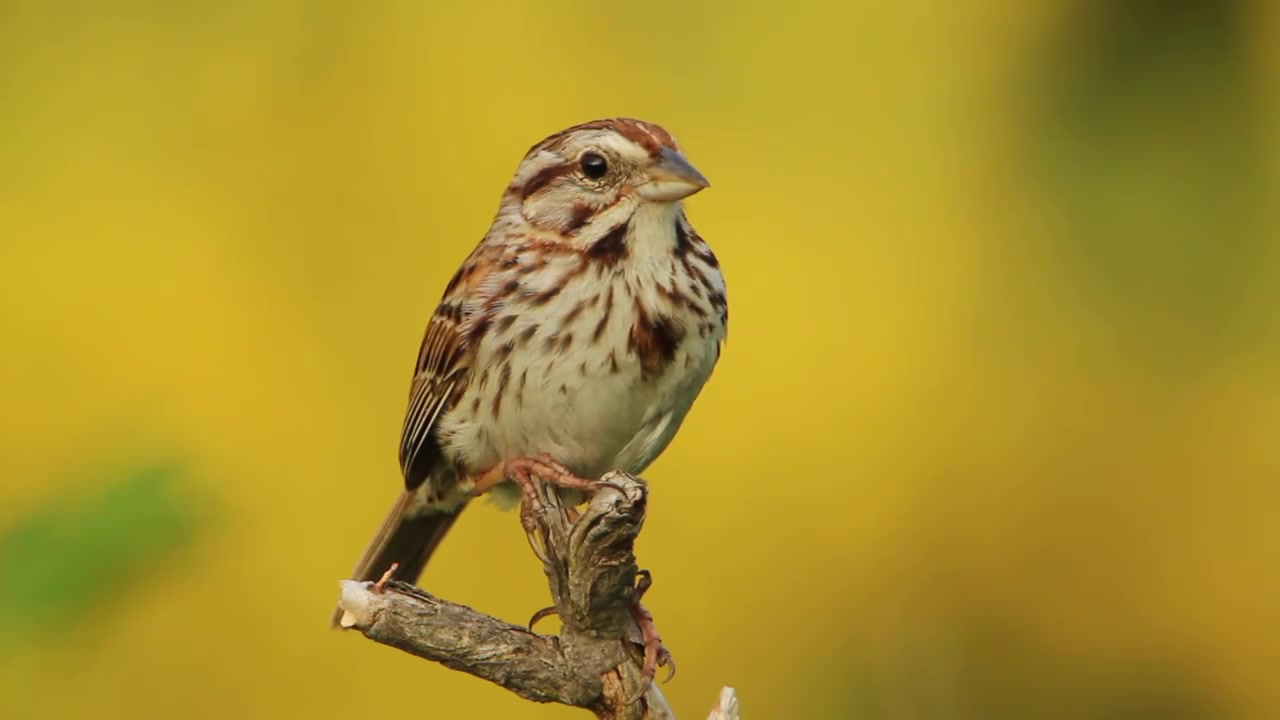bird: (330, 109, 731, 698)
